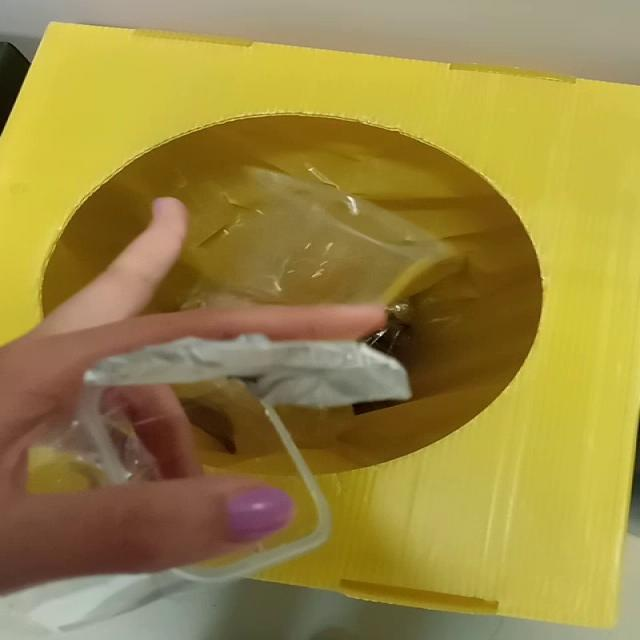plastic: (185, 384, 285, 470)
